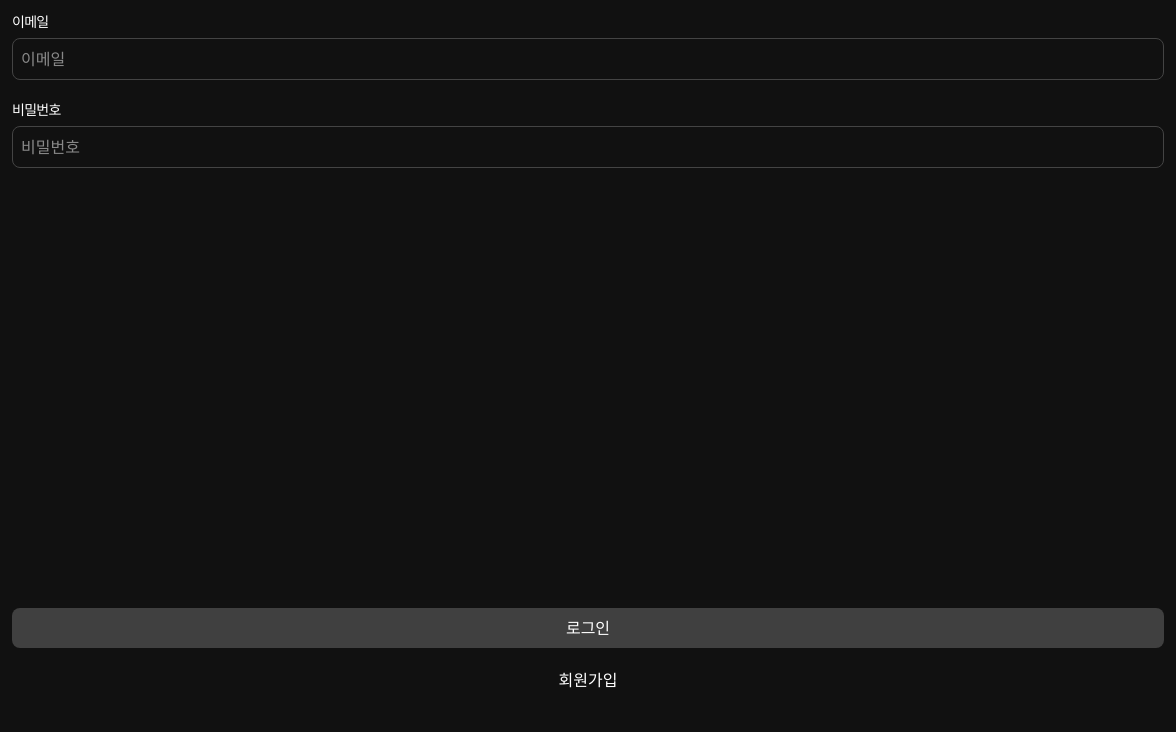
시나리오 1: 로그인 (/signin) › 유효성 검사 › 비밀번호가 비어 있으면 제출 시 에러 메시지를 보여준다
The width and height of the screenshot is (1176, 732).
In the field labelled "이메일": (588, 59) [12, 38, 1164, 80], type "test@example.com"
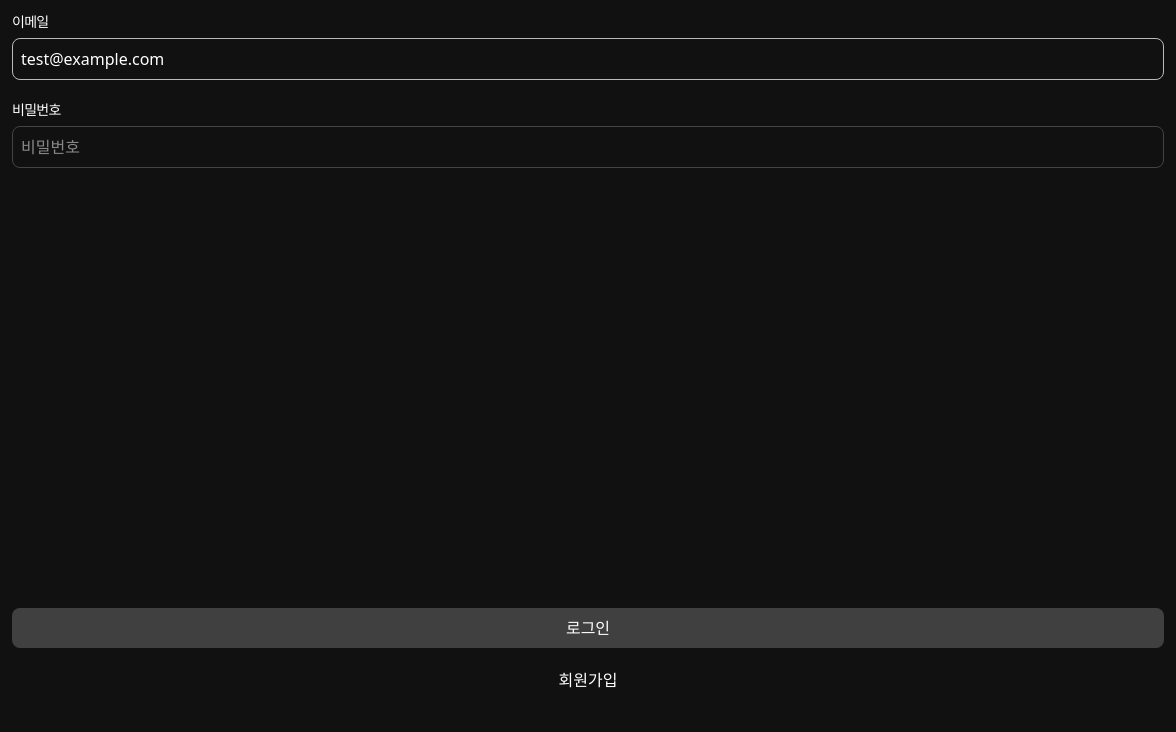
Click the button "로그인": click(588, 628) [12, 608, 1164, 648]
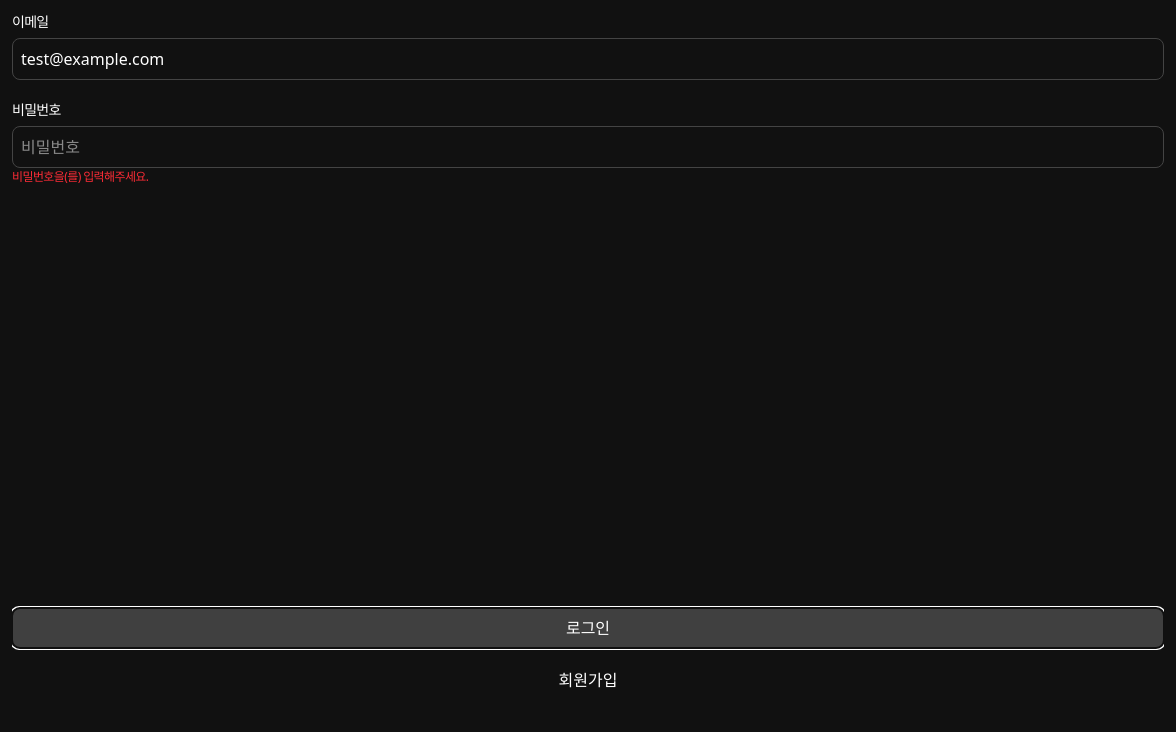
Expected: the text "비밀번호을(를) 입력해주세요." is shown, [12, 168, 148, 186]
